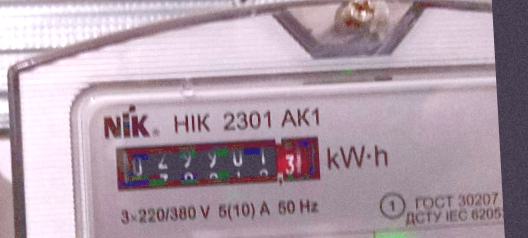0: (229, 143, 245, 169), (128, 154, 144, 177)
1: (256, 142, 269, 166)
2: (154, 148, 170, 171)
3: (281, 152, 297, 176)
9: (205, 146, 218, 170), (180, 147, 193, 168)
screen: (106, 127, 330, 201)
